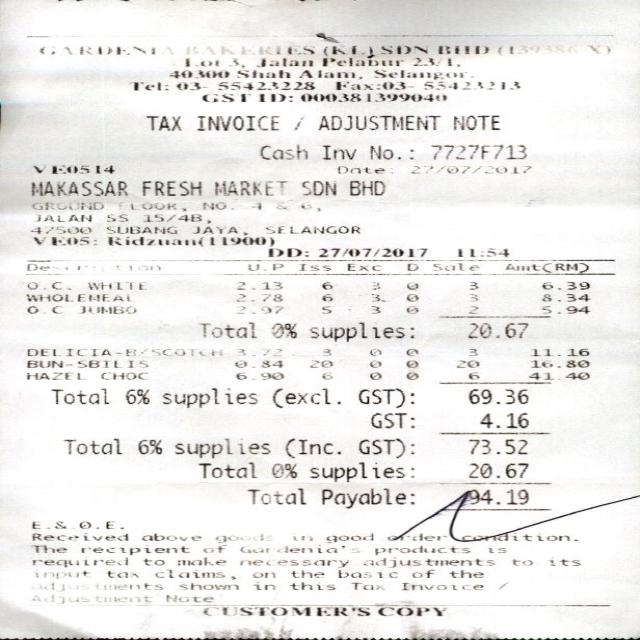text: (306, 321, 412, 341), (308, 462, 412, 482), (317, 114, 438, 130), (160, 387, 256, 407), (174, 438, 268, 458), (320, 488, 412, 508), (200, 606, 369, 616), (29, 179, 126, 196), (316, 247, 433, 260), (270, 387, 339, 408), (430, 144, 525, 159), (175, 80, 314, 90), (24, 262, 162, 272), (195, 114, 278, 130), (493, 44, 613, 55), (30, 581, 161, 591), (362, 557, 492, 567), (185, 44, 312, 54), (25, 593, 151, 603), (25, 358, 146, 368), (460, 487, 530, 504), (79, 544, 187, 555), (422, 78, 520, 90), (214, 179, 285, 195), (357, 387, 412, 407), (357, 438, 412, 458), (38, 46, 174, 54), (284, 438, 338, 458), (240, 544, 359, 553), (364, 90, 446, 103), (465, 387, 527, 404), (465, 461, 527, 478), (49, 386, 107, 404), (139, 179, 200, 196), (244, 487, 305, 504), (62, 437, 120, 454), (196, 461, 254, 478), (467, 322, 528, 338), (409, 165, 529, 173), (105, 236, 201, 246), (30, 557, 126, 567), (374, 544, 469, 554), (198, 322, 255, 338), (152, 568, 234, 579), (466, 438, 526, 453), (29, 531, 127, 540), (460, 534, 570, 542), (372, 69, 466, 78), (30, 164, 113, 174), (320, 56, 402, 66), (400, 261, 479, 271), (479, 412, 527, 428), (25, 348, 134, 355), (451, 114, 498, 130), (256, 144, 306, 159), (502, 262, 585, 271), (30, 520, 122, 528), (322, 44, 374, 58), (334, 81, 412, 90), (140, 213, 209, 223), (375, 606, 444, 616), (370, 412, 412, 428), (264, 226, 358, 233), (239, 560, 347, 566), (400, 582, 481, 590), (368, 144, 411, 159), (254, 56, 312, 67), (235, 68, 288, 80), (295, 69, 356, 79), (299, 92, 360, 102), (190, 224, 245, 235), (336, 568, 396, 578), (170, 68, 228, 78), (530, 358, 588, 368), (143, 114, 179, 130), (30, 201, 102, 209), (31, 237, 95, 246), (300, 179, 335, 195), (349, 179, 383, 195), (220, 236, 272, 246), (104, 226, 175, 233), (149, 348, 220, 355), (321, 144, 354, 159), (540, 292, 589, 302), (139, 532, 200, 540), (200, 92, 248, 102), (324, 532, 372, 542), (286, 580, 334, 590), (178, 582, 237, 590), (411, 56, 458, 66), (215, 534, 273, 542), (380, 44, 426, 54), (537, 305, 588, 314), (349, 580, 387, 592), (34, 214, 90, 222), (85, 281, 141, 289), (383, 534, 446, 541), (232, 359, 280, 368), (164, 593, 212, 602), (435, 44, 478, 54), (527, 372, 588, 379), (455, 248, 508, 256), (122, 388, 148, 404), (30, 226, 89, 233), (77, 293, 128, 301), (270, 322, 295, 338), (270, 462, 295, 478), (174, 557, 224, 565), (531, 348, 588, 355), (346, 260, 379, 272), (78, 306, 134, 313), (129, 203, 184, 210), (24, 372, 79, 379), (540, 281, 588, 289), (25, 293, 71, 301), (337, 165, 382, 173), (235, 281, 280, 289), (235, 293, 280, 301), (136, 439, 160, 454), (244, 262, 283, 271), (447, 568, 482, 578), (26, 281, 69, 289), (288, 568, 322, 578), (234, 372, 282, 379), (258, 92, 291, 102), (266, 248, 306, 256), (33, 570, 86, 576), (183, 57, 217, 66), (132, 81, 166, 90), (100, 372, 142, 379), (29, 545, 66, 552), (409, 568, 434, 578), (239, 348, 280, 354), (300, 263, 330, 271), (25, 306, 57, 313), (455, 358, 477, 368), (105, 570, 136, 577), (106, 212, 127, 222), (548, 559, 578, 565), (202, 201, 224, 209), (258, 305, 280, 313), (308, 359, 330, 367), (142, 557, 163, 565), (202, 545, 224, 552), (227, 58, 243, 67), (243, 319, 253, 333), (252, 583, 274, 589), (486, 546, 504, 553), (511, 559, 531, 565), (250, 572, 274, 577), (369, 293, 383, 301), (464, 305, 478, 313), (236, 306, 252, 313), (403, 359, 417, 367), (466, 370, 478, 379), (292, 117, 300, 130), (298, 201, 311, 209), (405, 294, 418, 302), (466, 280, 476, 290), (403, 372, 417, 379), (271, 201, 283, 209), (367, 359, 379, 367), (403, 348, 416, 355), (319, 281, 330, 289), (319, 293, 330, 301), (405, 282, 417, 289), (403, 306, 417, 312), (367, 348, 379, 355), (367, 372, 379, 379), (249, 202, 260, 209), (319, 372, 330, 379), (292, 536, 311, 540), (466, 348, 476, 355), (370, 306, 379, 313), (320, 306, 329, 313), (207, 235, 213, 245), (467, 294, 476, 300), (371, 282, 378, 289), (321, 348, 329, 354), (498, 582, 504, 588)
